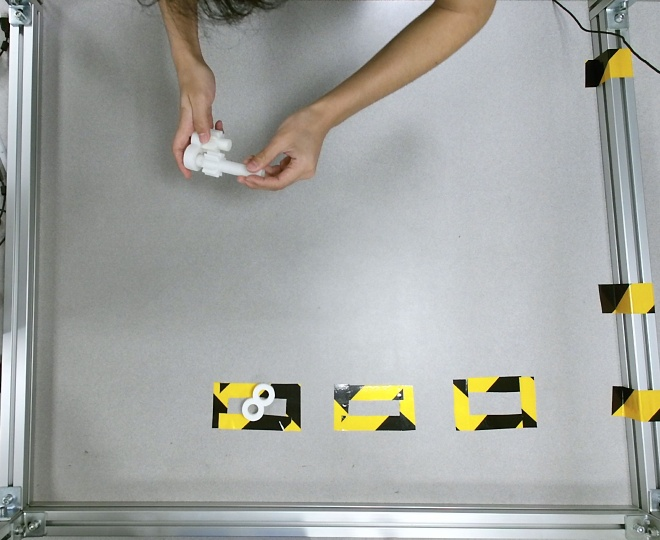stage_2: (182, 128, 231, 171)
